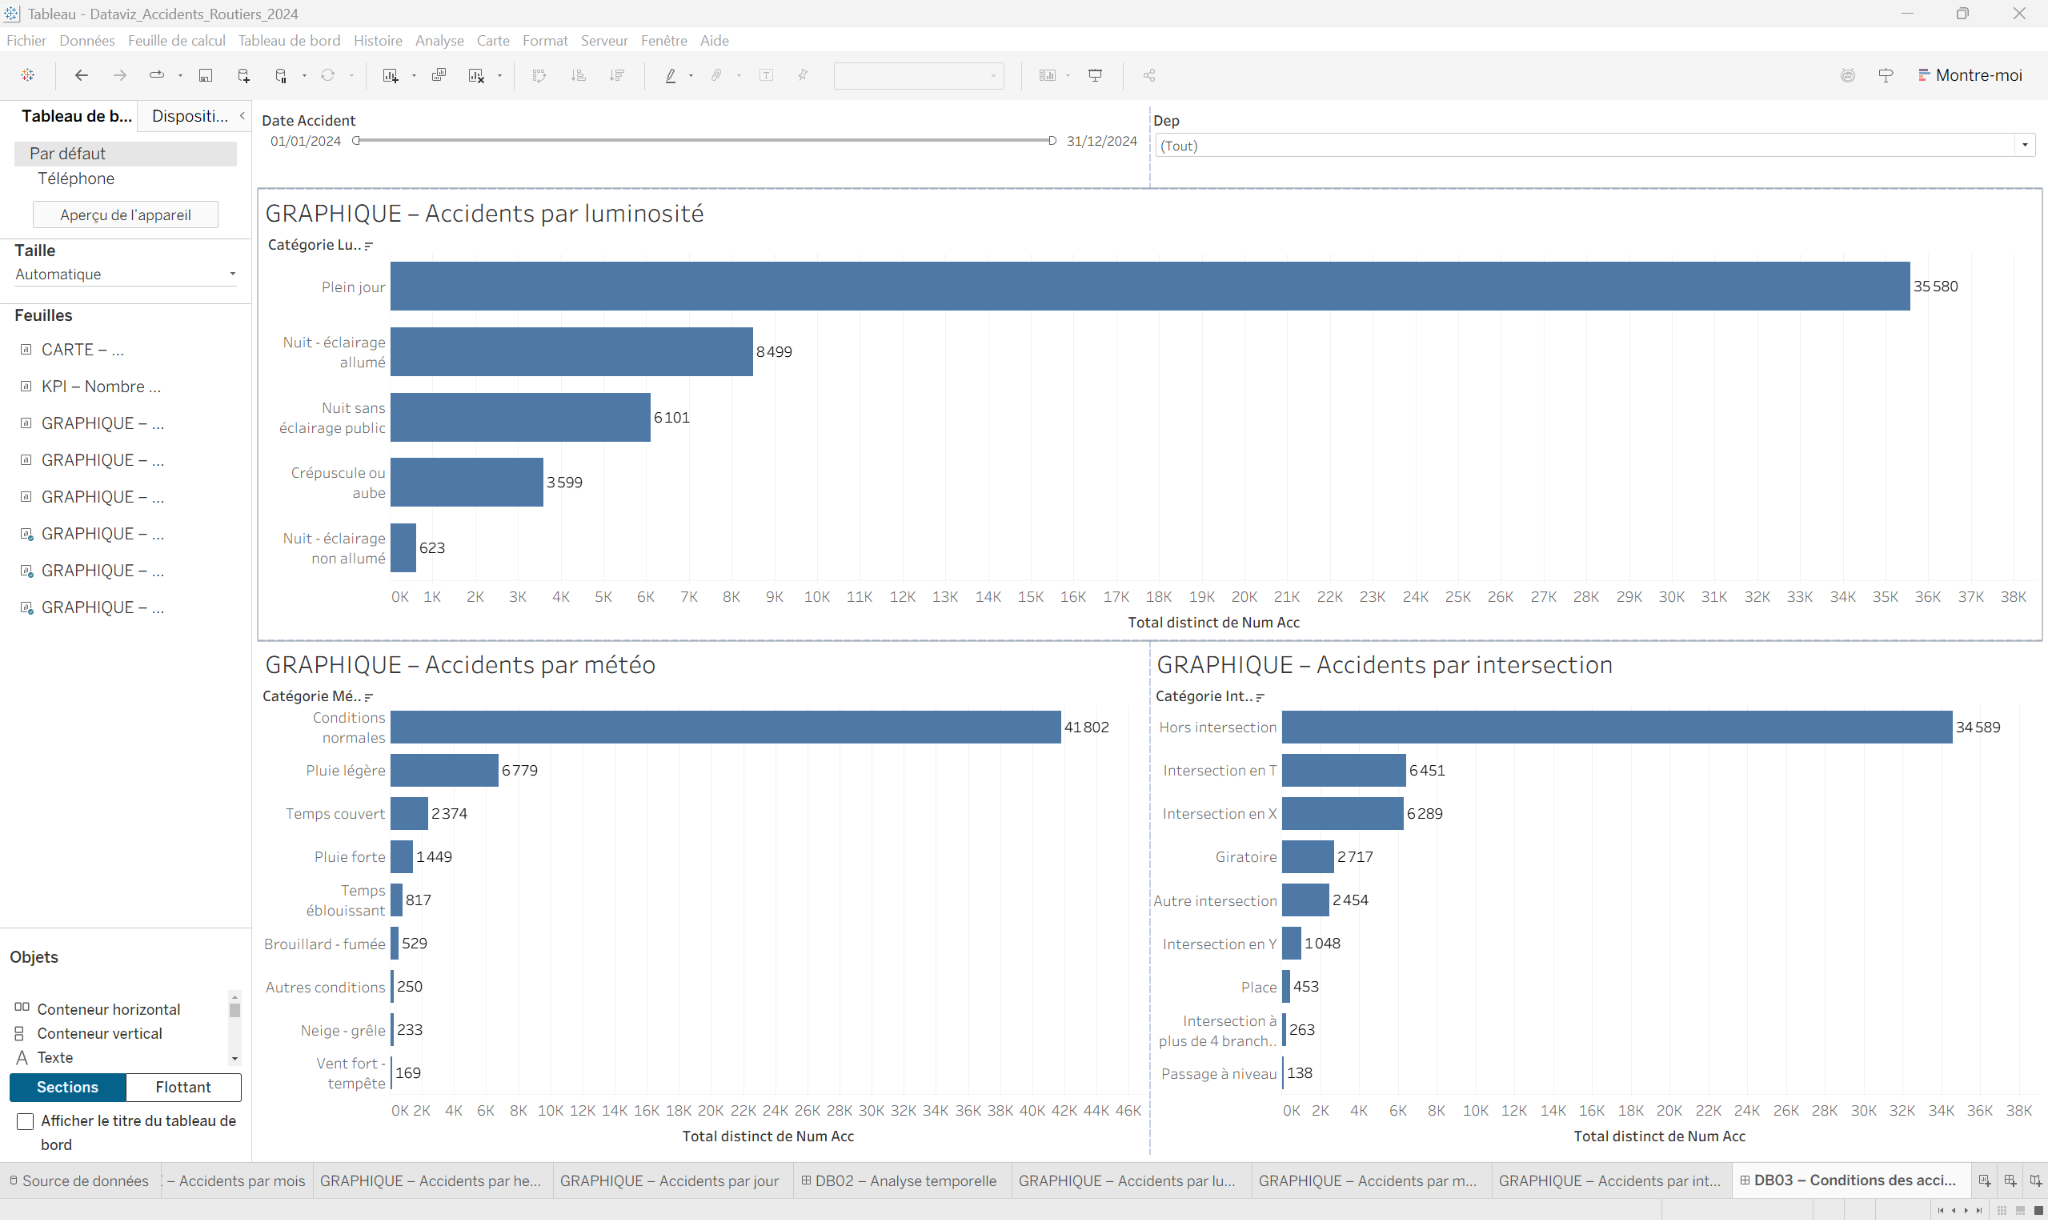

The dashboard page shown, as its layout file describes it:
{"tool":"tableau","page":{"name":"DB03 – Conditions des accidents","canvas":[1000,1000],"units":"permille","ordinal":2},"visuals":[{"type":"filter","title":"GRAPHIQUE – Accidents par luminosité","param":"[federated.1dc3qo30r3qsj61aflm3n1lx6kel].[none:Calculation_3093267443486720:qk]","box":[3.6,6,496.4,44.5]},{"type":"filter","title":"GRAPHIQUE – Accidents par luminosité","param":"[federated.1dc3qo30r3qsj61aflm3n1lx6kel].[none:dep:nk]","box":[500,6,496.4,52.8]},{"type":"worksheet","title":"GRAPHIQUE – Accidents par luminosité","mark":"Bar","rows":["Calculation_1614424596766722"],"cols":["Num_Acc"],"box":[3.6,83.7,992.9,425.3]},{"type":"worksheet","title":"GRAPHIQUE – Accidents par météo","mark":"Bar","rows":["Calculation_1614424597983235"],"cols":["Num_Acc"],"box":[3.6,509.1,496.4,484.9]},{"type":"worksheet","title":"GRAPHIQUE – Accidents par intersection","mark":"Bar","rows":["Calculation_1614424598843396"],"cols":["Num_Acc"],"box":[500,509.1,496.4,484.9]}]}

Visuals, with their boxes on the dashboard's canvas, which has no fixed pixel size, in thousandths of its width and height (x1, y1, x2, y2). These are canvas units, not pixel positions in the 2048x1220 screenshot, which may show the page scaled, cropped or inside an application window:
"GRAPHIQUE – Accidents par luminosité" filter: [left=4, top=6, right=500, bottom=50]
"GRAPHIQUE – Accidents par luminosité" filter: [left=500, top=6, right=996, bottom=59]
"GRAPHIQUE – Accidents par luminosité" worksheet (Bar marks): [left=4, top=84, right=996, bottom=509]
"GRAPHIQUE – Accidents par météo" worksheet (Bar marks): [left=4, top=509, right=500, bottom=994]
"GRAPHIQUE – Accidents par intersection" worksheet (Bar marks): [left=500, top=509, right=996, bottom=994]
